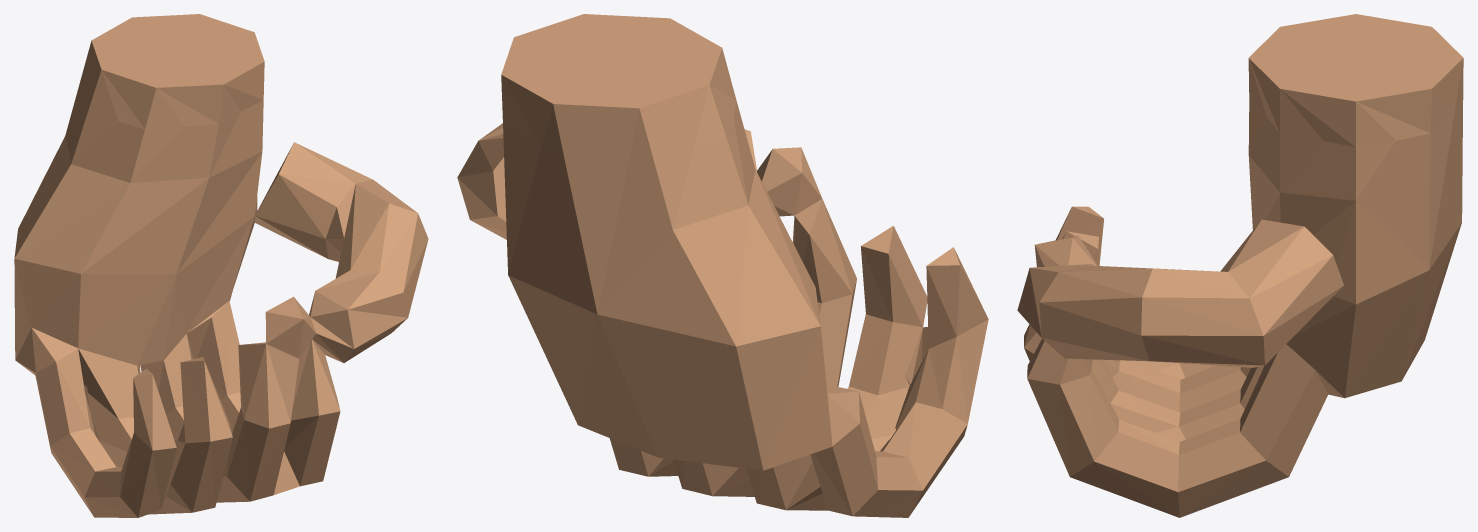
Rendered from grip-left.glb.
3 renders of one model, left to right at view 1: azimuth 30°, elevation 25°; view 2: azimuth 150°, elevation 25°; view 3: azimuth 270°, elevation 25°, orthographic. The views are drawn at different scales.
Visible parts, largest first — view 1: Unified power grip left; view 2: Unified power grip left; view 3: Unified power grip left.
Boxes of the visible parts, x1,y1,x2,y2 form: Unified power grip left: [14, 14, 428, 517]; Unified power grip left: [457, 14, 988, 517]; Unified power grip left: [1017, 14, 1463, 517].
Bounding box in the file's own units: 0.116 × 0.1295 × 0.1162.
